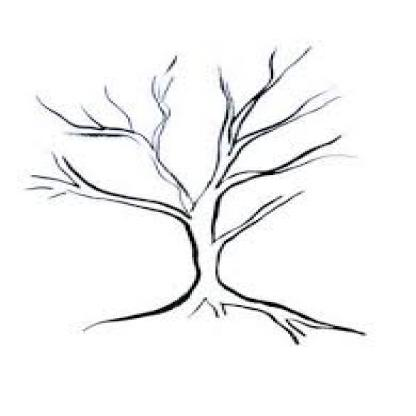branch_line: (29, 38, 350, 246)
root_only: (78, 286, 369, 344)
trunk_straight: (184, 253, 236, 283)
